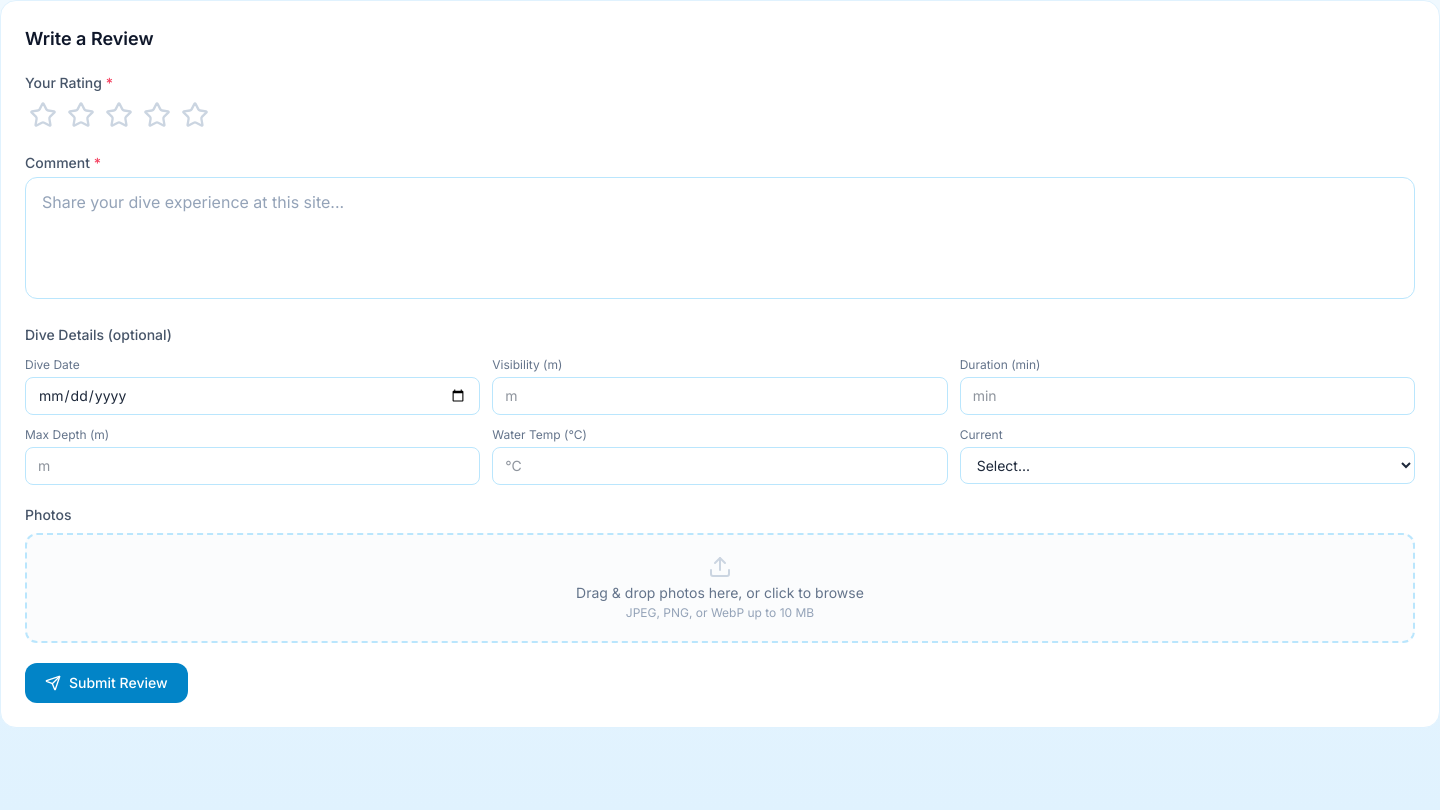
Test: ReviewForm › shows error when submitting without rating
Click the button "Submit Review". click: (106, 683)
box: [25,663,188,703]
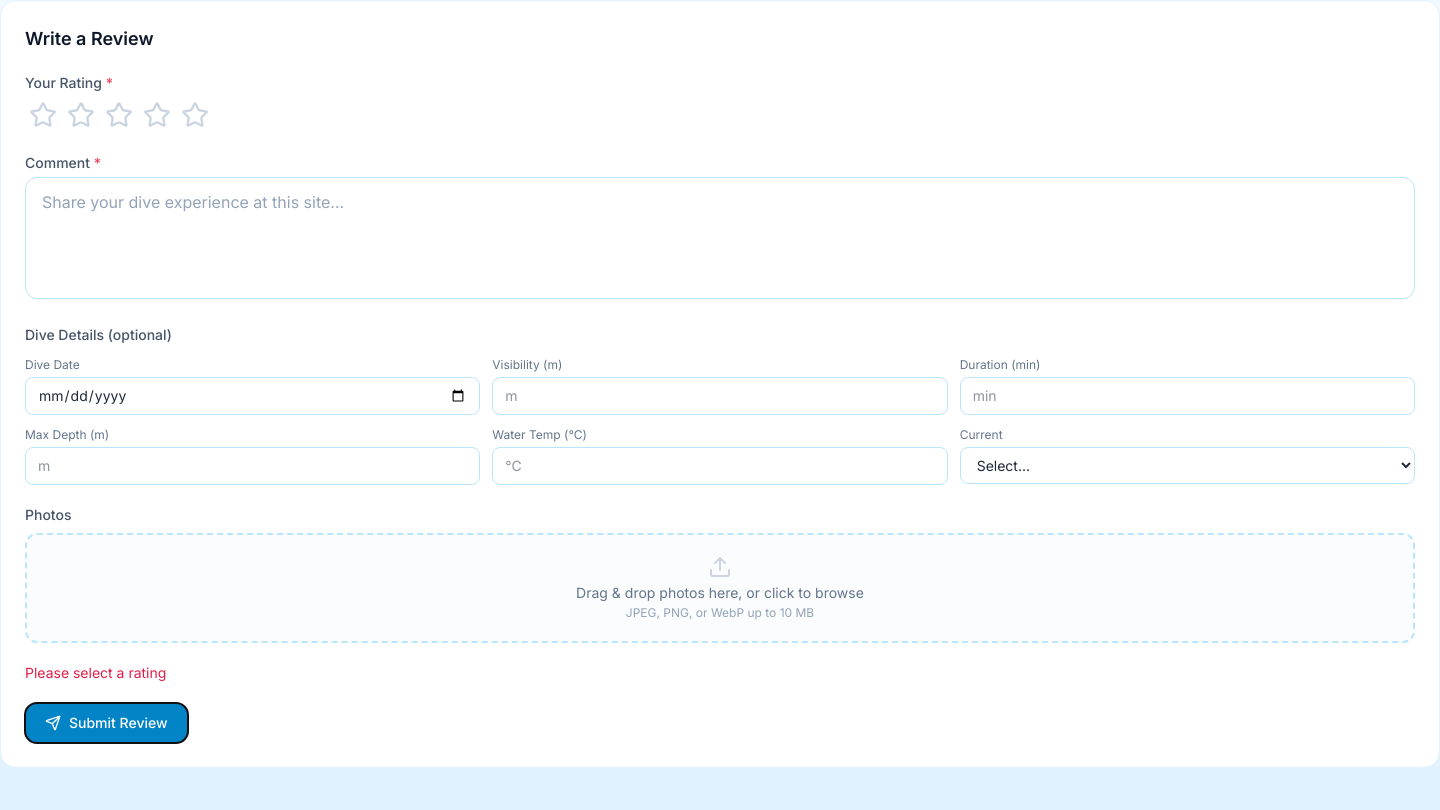
Expected: the text "Please select a rating" is shown, [25,664,166,681]
